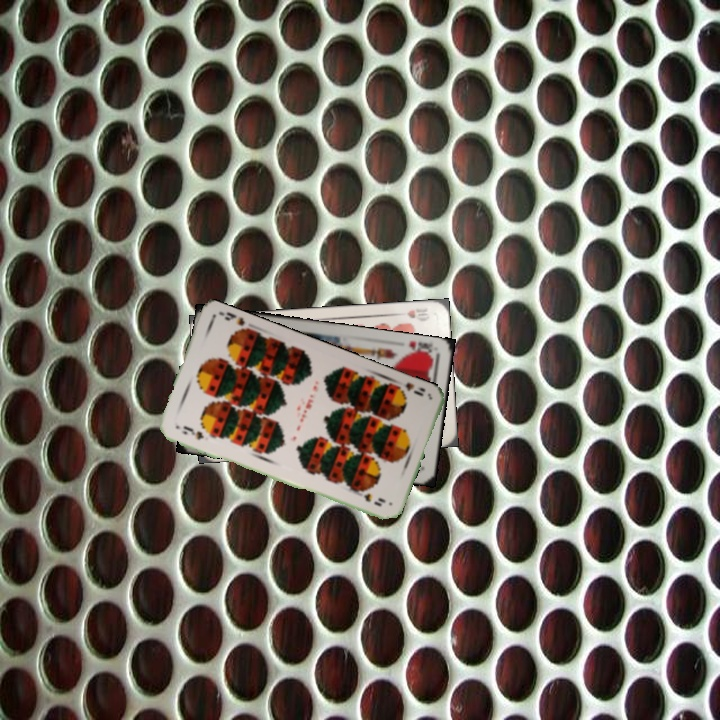H10: (403, 303, 430, 321)
HK: (401, 337, 436, 360)
S9: (391, 378, 426, 399), (178, 422, 206, 443)
